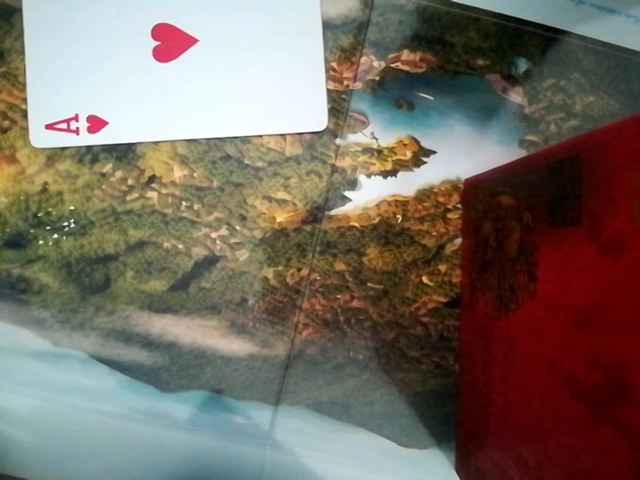hx a: (14, 0, 328, 152)
